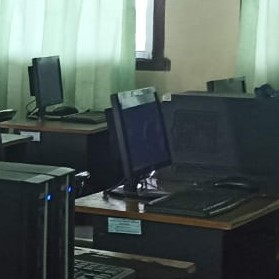monitor: (153, 109, 244, 185), (110, 86, 173, 183), (143, 185, 252, 218), (31, 55, 64, 111), (0, 105, 17, 122)
